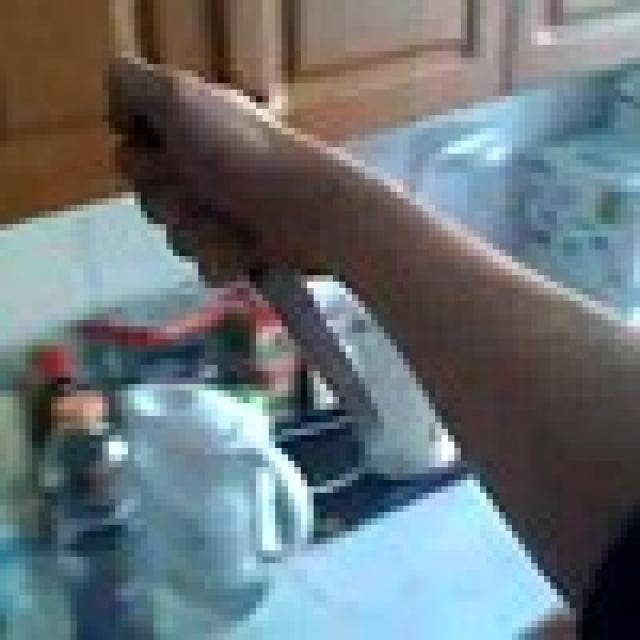weapon: (134, 90, 378, 435)
